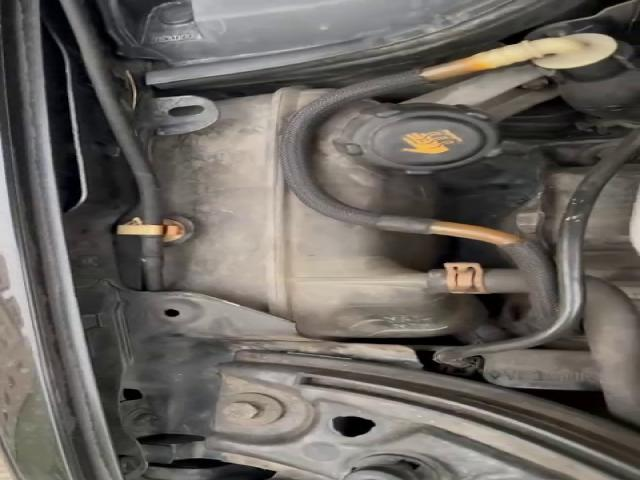antifreeze_tank: (152, 87, 479, 337), (314, 100, 499, 217)
